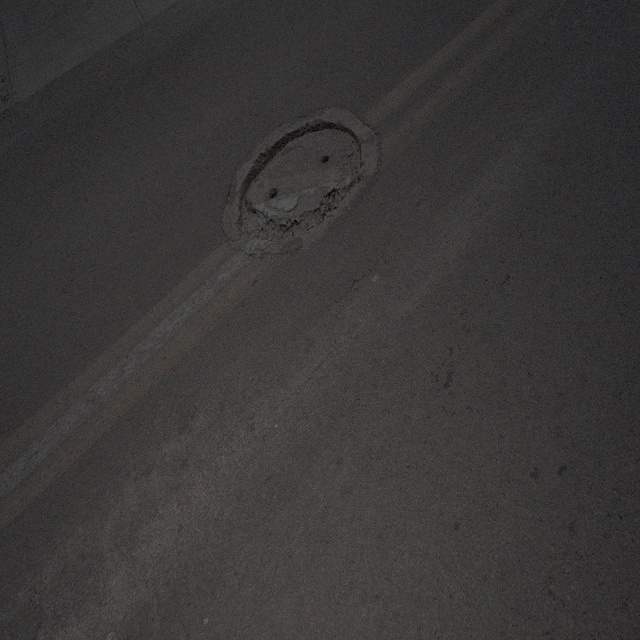pothole: (242, 177, 356, 245)
